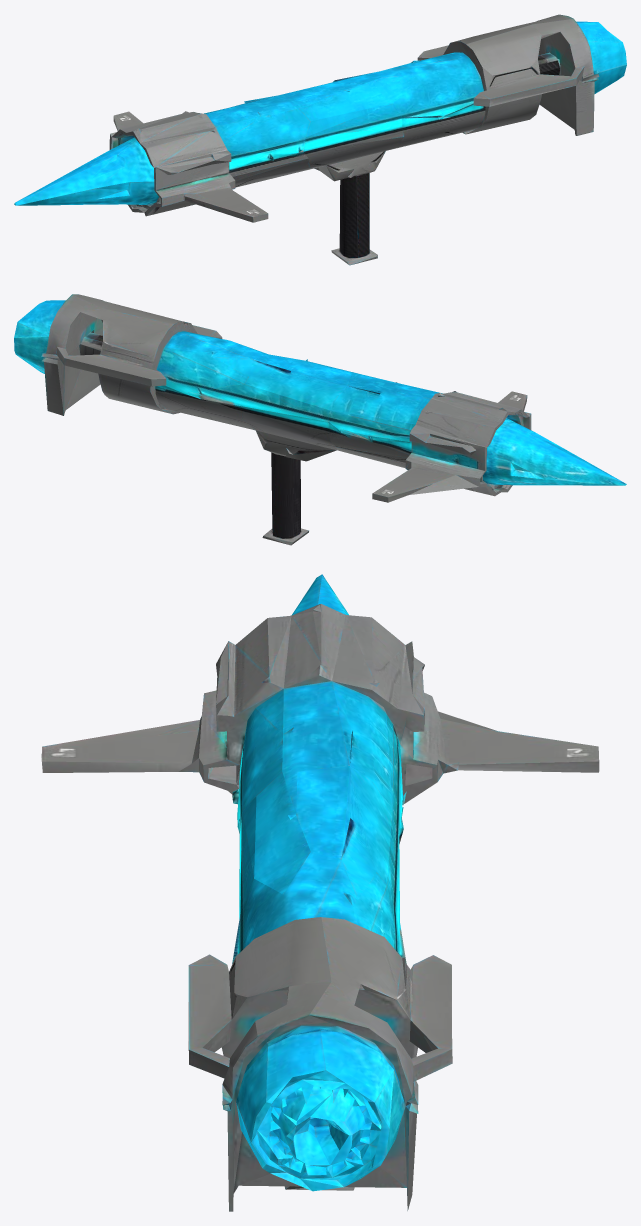
The model's file is fx-ion-bolt.glb.
3 renders of one model, top to bottom at view 1: azimuth 30°, elevation 25°; view 2: azimuth 150°, elevation 25°; view 3: azimuth 270°, elevation 25°, orthographic. The views are drawn at different scales.
Size of the model in its own units: 1.9 by 0.5671 by 0.7701.
1 material, 1 textured.
